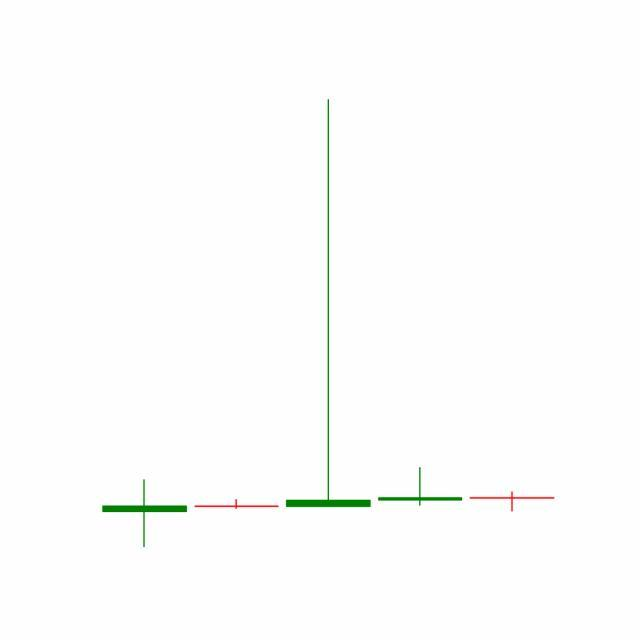Spinning Top: (466, 491, 559, 513)
